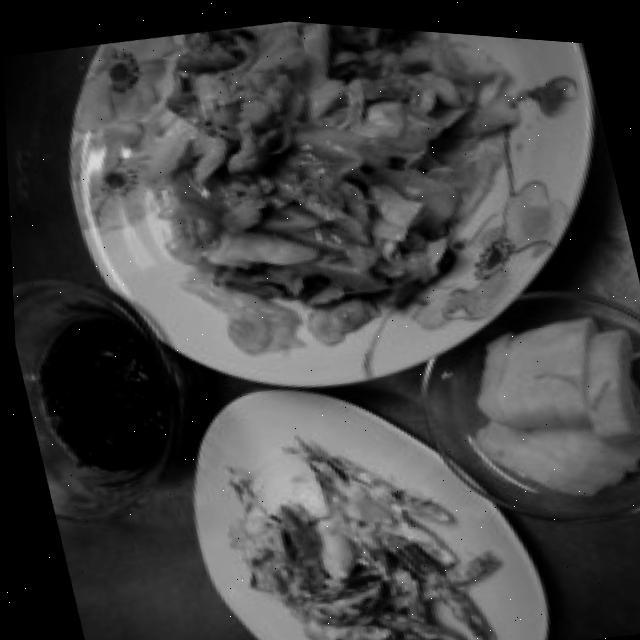蔬菜料理: (97, 6, 570, 397)
